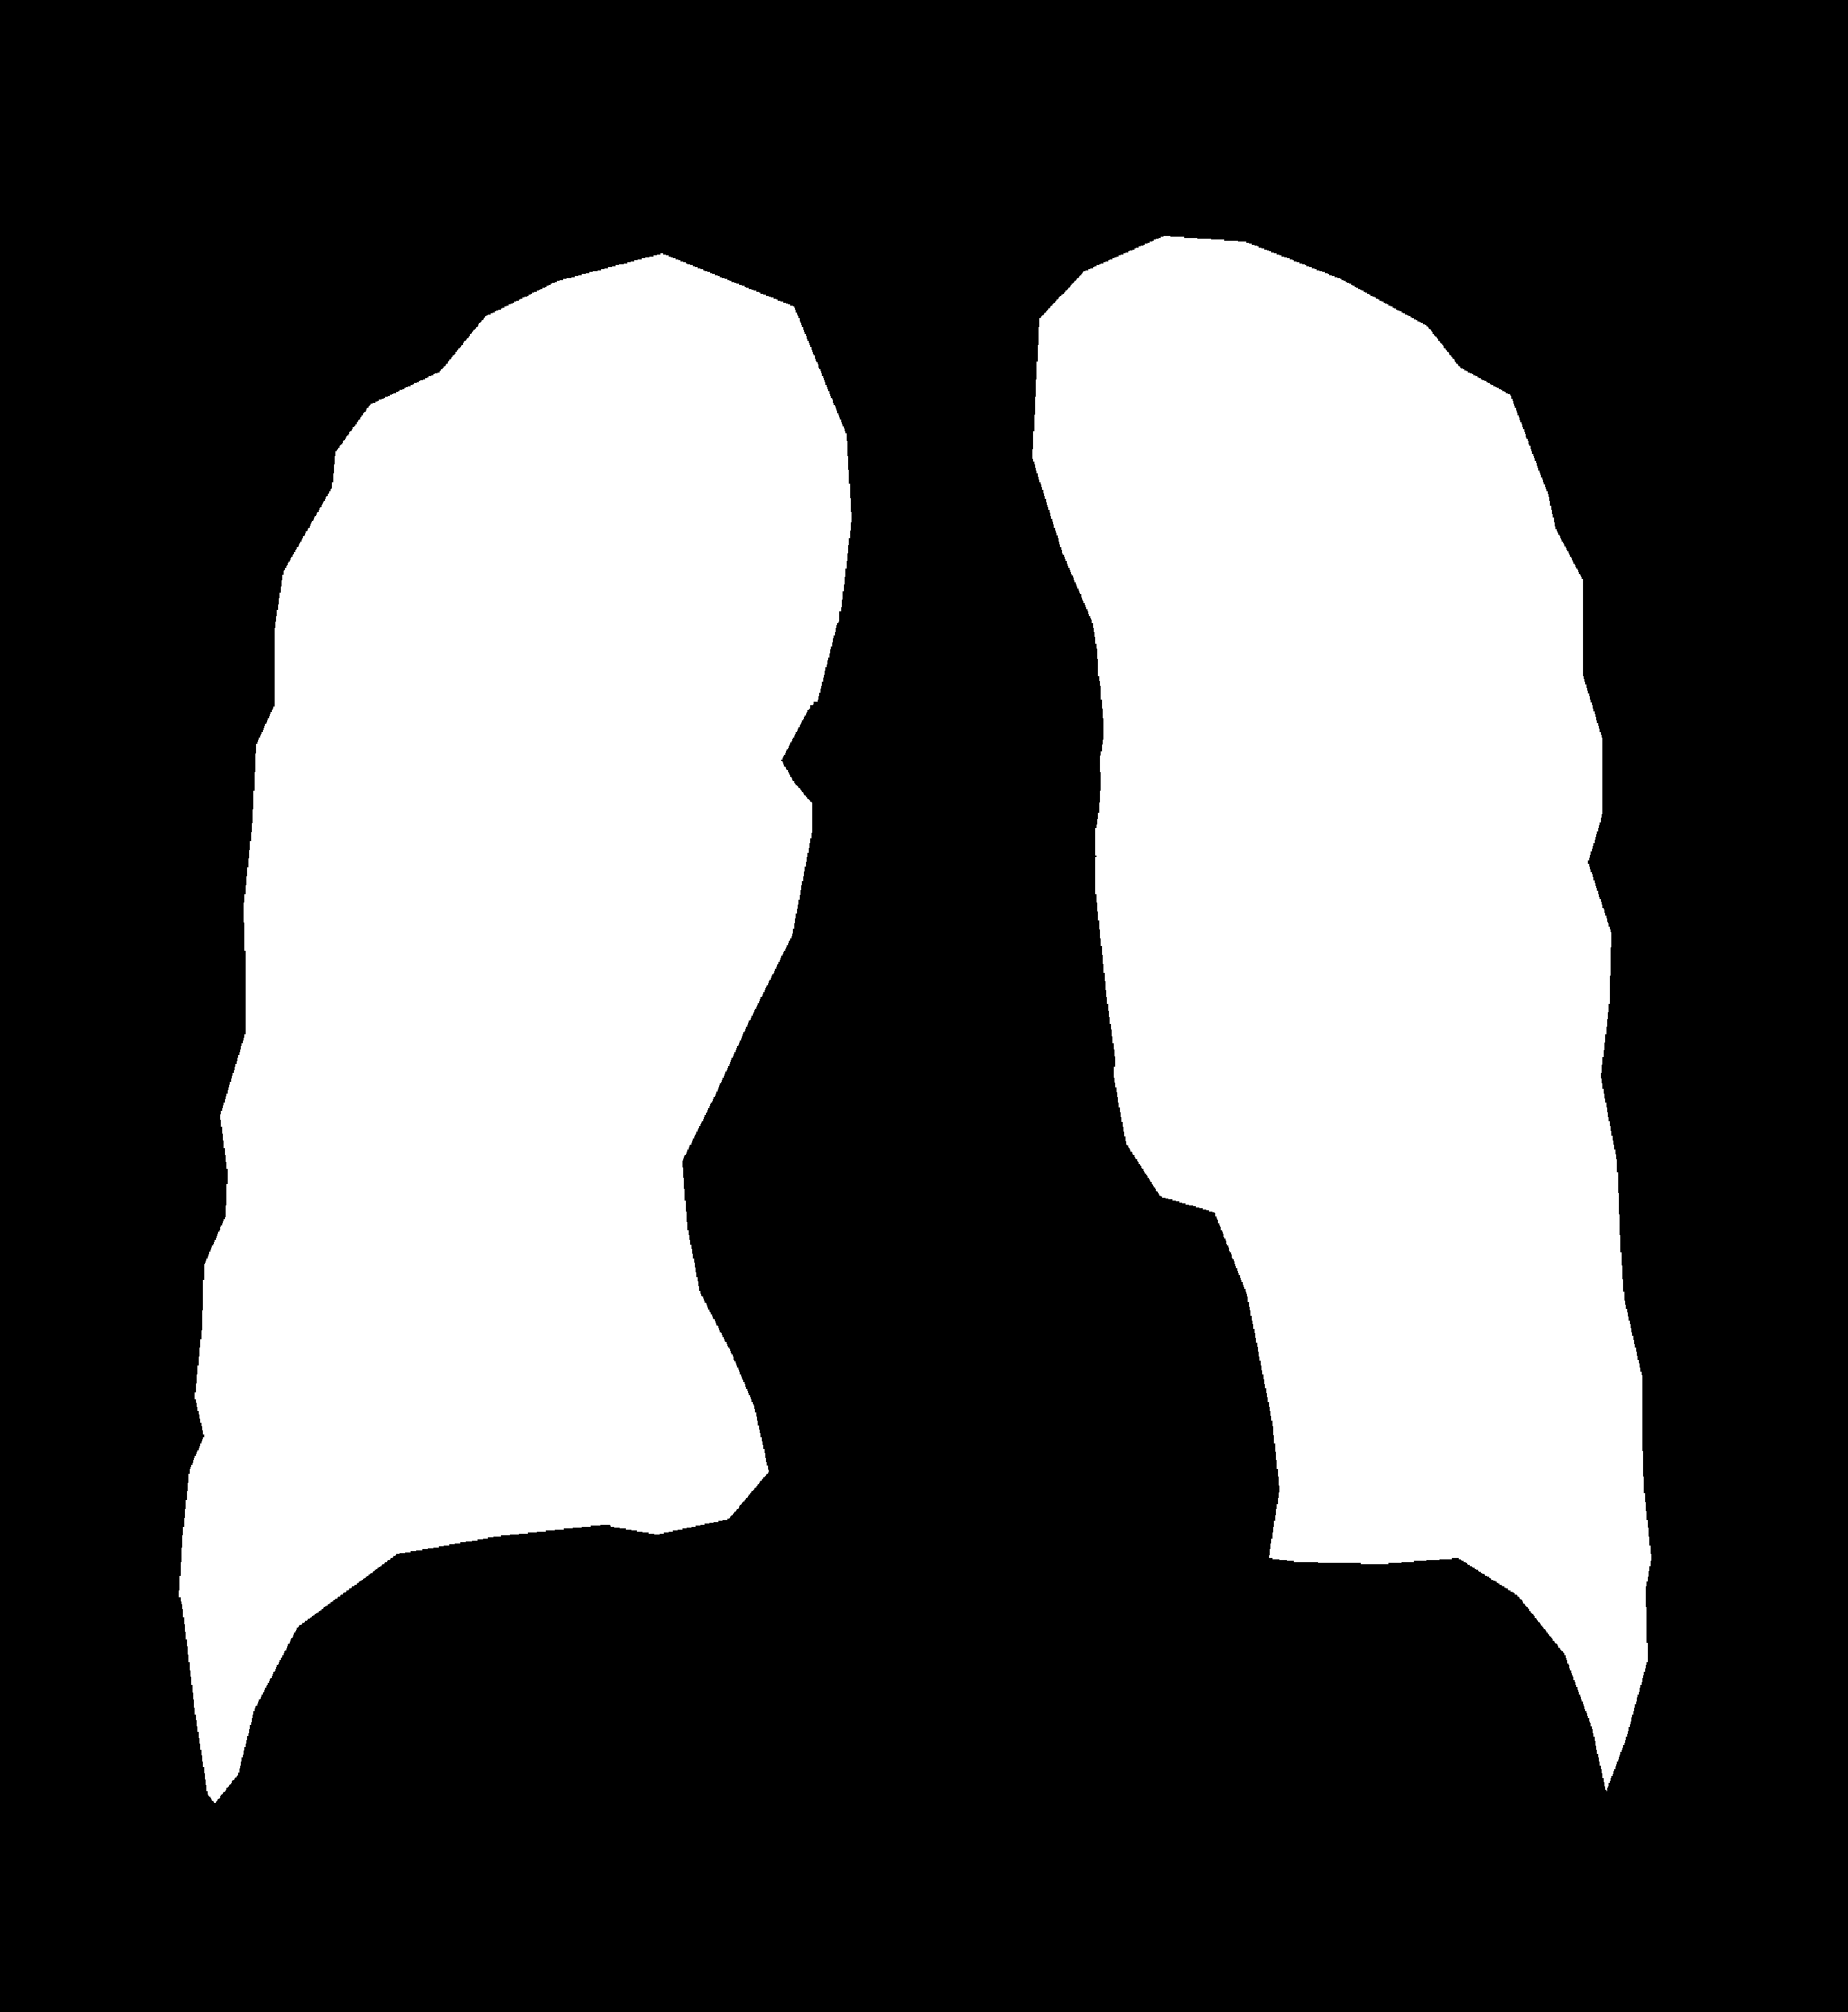heart: (675, 1036, 1275, 1593)
left_lung: (179, 252, 850, 1802)
right_lung: (1033, 237, 1650, 1791)
